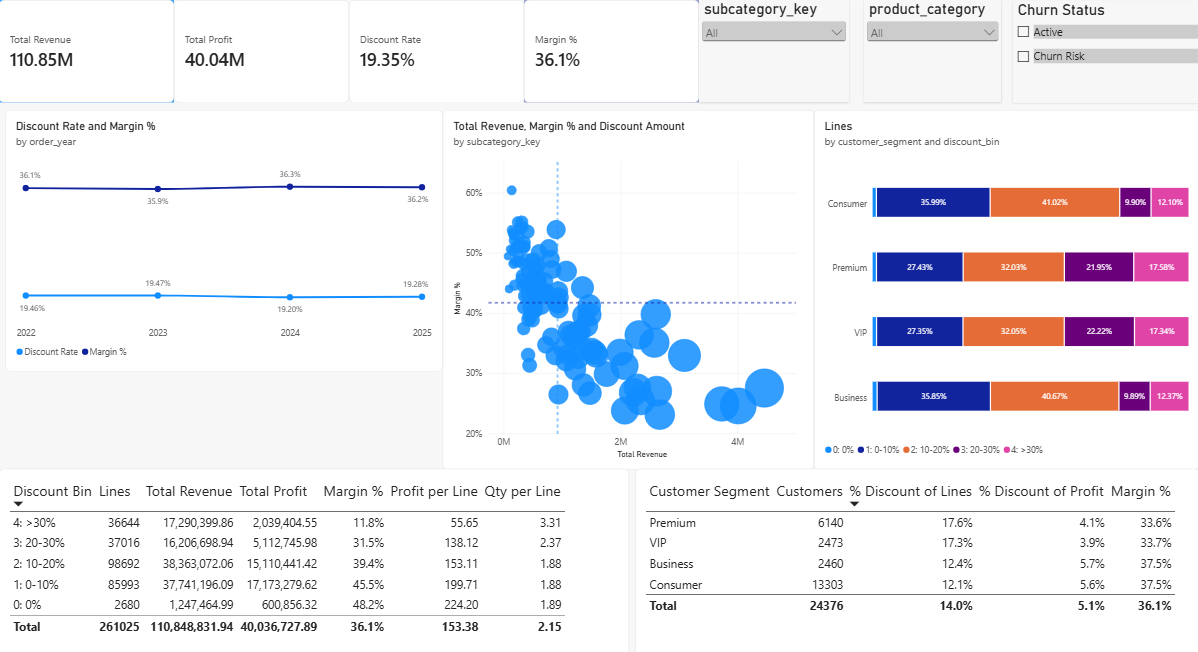

The page's visual inventory and layout, read from the dashboard file:
{"tool":"powerbi","page":{"name":"Page 1","canvas":[1920,1080],"ordinal":0},"visuals":[{"type":"cardVisual","fields":{"Data":["fact_order_promotion_clean.Total Revenue"]},"box":[0,0,280,164],"z":0},{"type":"cardVisual","fields":{"Data":["fact_order_promotion_clean.Total Profit"]},"box":[280,0,280,164],"z":1000},{"type":"cardVisual","fields":{"Data":["fact_order_promotion_clean.Margin %"]},"box":[840,0,280,164],"z":2000},{"type":"cardVisual","fields":{"Data":["fact_order_promotion_clean.Discount Rate"]},"box":[560,0,280,164],"z":3000},{"type":"lineChart","fields":{"Category":["fact_order_promotion_clean.order_year"],"Y":["fact_order_promotion_clean.Discount Rate","fact_order_promotion_clean.Margin %"]},"box":[10,175,700,418.3],"z":4000},{"type":"scatterChart","fields":{"Category":["fact_order_promotion_clean.subcategory_key"],"Size":["fact_order_promotion_clean.Discount Amount"],"X":["fact_order_promotion_clean.Total Revenue"],"Y":["fact_order_promotion_clean.Margin %"]},"box":[710,175,593.3,575],"z":5000},{"type":"tableEx","fields":{"Values":["fact_order_promotion_clean.discount_bin","fact_order_promotion_clean.Lines","fact_order_promotion_clean.Total Revenue","fact_order_promotion_clean.Total Profit","fact_order_promotion_clean.Margin %","fact_order_promotion_clean.Profit per Line","fact_order_promotion_clean.Avg Qty per Line"]},"box":[0,750,1008,330],"z":6000},{"type":"slicer","fields":{"Values":["fact_order_promotion_clean.subcategory_key"]},"box":[1120,0,240,164],"z":6001},{"type":"slicer","fields":{"Values":["fact_order_promotion_clean.product_category"]},"box":[1384,0,220,164],"z":6002},{"type":"hundredPercentStackedBarChart","fields":{"Category":["fact_order_promotion_clean.customer_segment"],"Series":["fact_order_promotion_clean.discount_bin"],"Y":["fact_order_promotion_clean.Lines"]},"box":[1303.3,175,616.7,575],"z":6003},{"type":"tableEx","fields":{"Values":["fact_order_promotion_clean.customer_segment","fact_order_promotion_clean.Customers","fact_order_promotion_clean.Deep Discount % of Lines","fact_order_promotion_clean.Deep Discount % of Profit","fact_order_promotion_clean.Margin %"]},"box":[1018,750,902,330],"z":6004},{"type":"slicer","fields":{"Values":["fact_order_promotion_clean.churn_status"]},"box":[1622,2,298,162],"z":6005}]}

Visuals, with their boxes on the page's 1920x1080 design canvas (x1, y1, x2, y2). These are canvas units, not pixel positions in the 1198x652 screenshot, which may show the page scaled, cropped or inside an application window:
cardVisual - fact_order_promotion_clean.Total Revenue: <region>0, 0, 280, 164</region>
cardVisual - fact_order_promotion_clean.Total Profit: <region>280, 0, 560, 164</region>
cardVisual - fact_order_promotion_clean.Margin %: <region>840, 0, 1120, 164</region>
cardVisual - fact_order_promotion_clean.Discount Rate: <region>560, 0, 840, 164</region>
lineChart - fact_order_promotion_clean.order_year x fact_order_promotion_clean.Discount Rate: <region>10, 175, 710, 593</region>
scatterChart - fact_order_promotion_clean.subcategory_key x fact_order_promotion_clean.Discount Amount: <region>710, 175, 1303, 750</region>
tableEx - fact_order_promotion_clean.discount_bin x fact_order_promotion_clean.Lines: <region>0, 750, 1008, 1080</region>
slicer - fact_order_promotion_clean.subcategory_key: <region>1120, 0, 1360, 164</region>
slicer - fact_order_promotion_clean.product_category: <region>1384, 0, 1604, 164</region>
hundredPercentStackedBarChart - fact_order_promotion_clean.customer_segment x fact_order_promotion_clean.discount_bin: <region>1303, 175, 1920, 750</region>
tableEx - fact_order_promotion_clean.customer_segment x fact_order_promotion_clean.Customers: <region>1018, 750, 1920, 1080</region>
slicer - fact_order_promotion_clean.churn_status: <region>1622, 2, 1920, 164</region>
